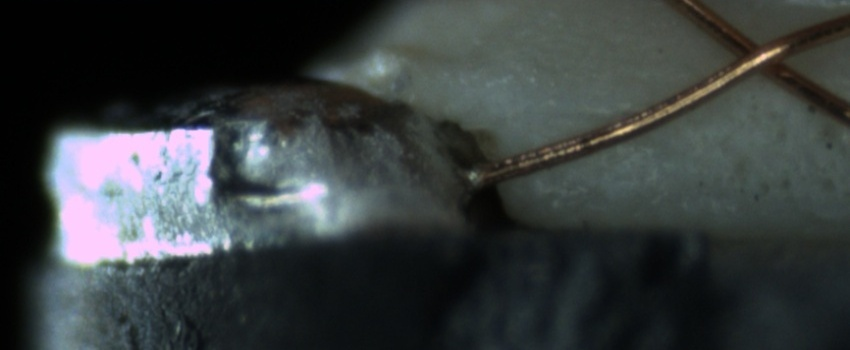CL: (708, 21, 809, 90)
DL: (526, 90, 638, 140)
